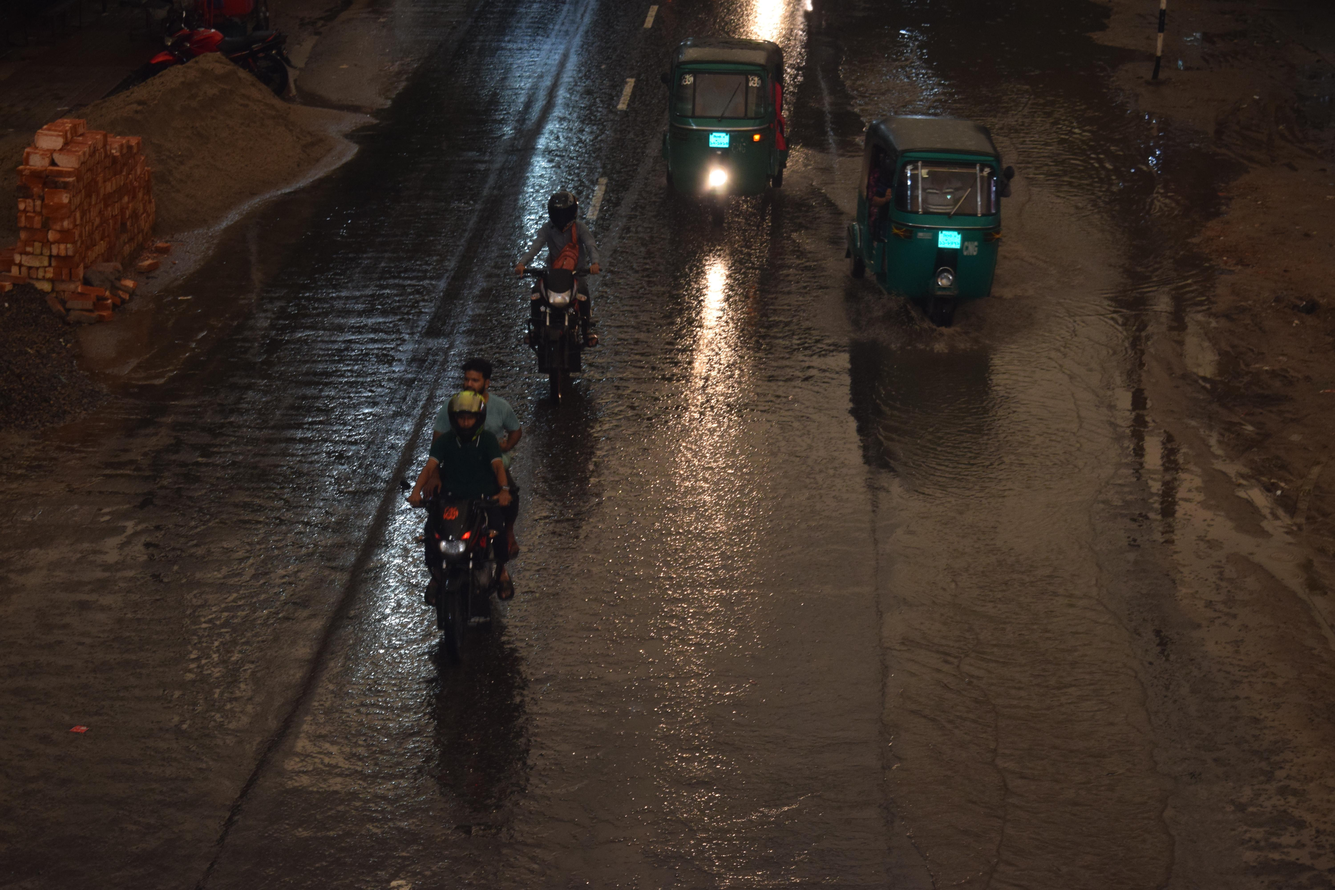Bike: (368, 339, 572, 659), (484, 158, 638, 430)
